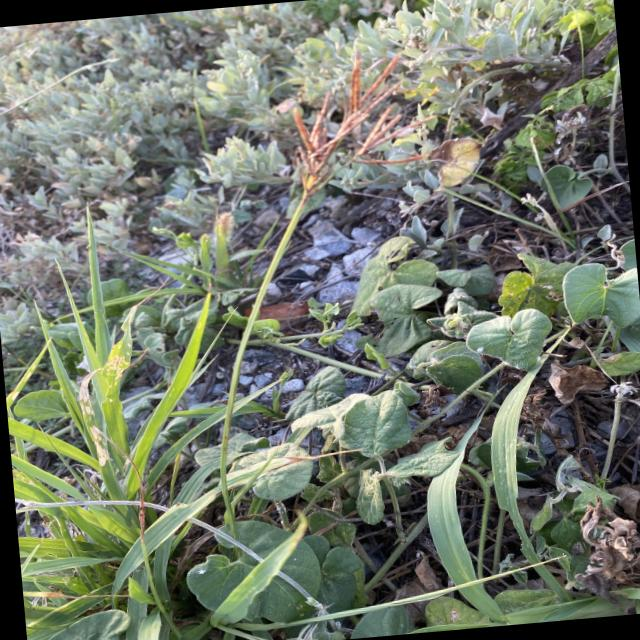cyperus: (270, 34, 451, 206)
